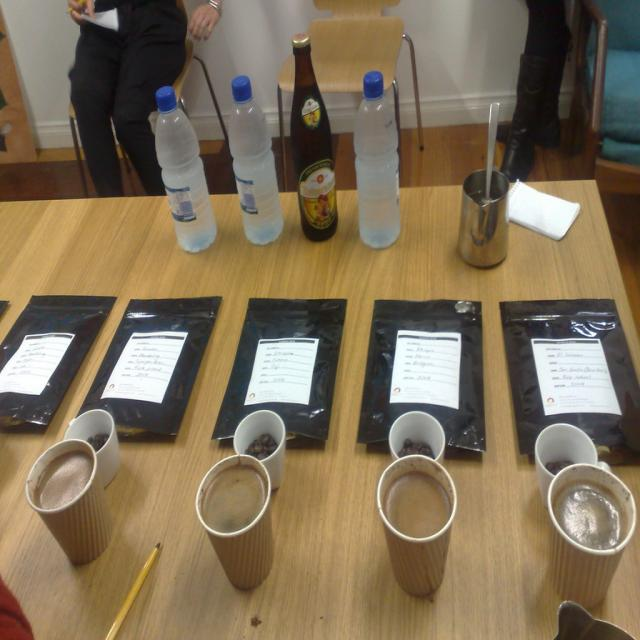Coffee: (384, 464, 452, 538), (552, 483, 627, 545), (198, 463, 266, 530), (34, 453, 93, 508)
Tea: (553, 476, 627, 546), (381, 471, 451, 539), (200, 467, 266, 532), (35, 451, 94, 510)
